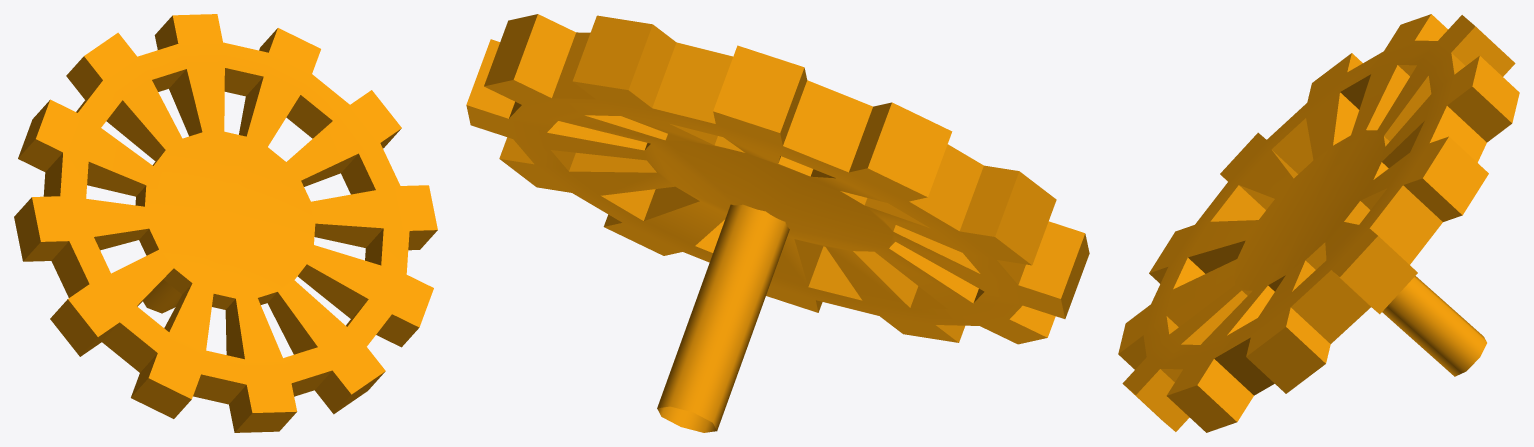
The model's file is Wheel02.fbx.
The picture shows the model from 3 angles, left to right: view 1: azimuth 30°, elevation 25°; view 2: azimuth 150°, elevation 25°; view 3: azimuth 270°, elevation 25°; orthographic projection. The views are drawn at different scales.
Parts seen in each view (by area): view 1: Wheel02; view 2: Wheel02; view 3: Wheel02.
Boxes of the visible parts, x1,y1,x2,y2 form: Wheel02: [14, 14, 437, 432]; Wheel02: [466, 14, 1089, 432]; Wheel02: [1118, 14, 1519, 432].
Bounding box in the file's own units: 1.72 × 1.33 × 1.37.
